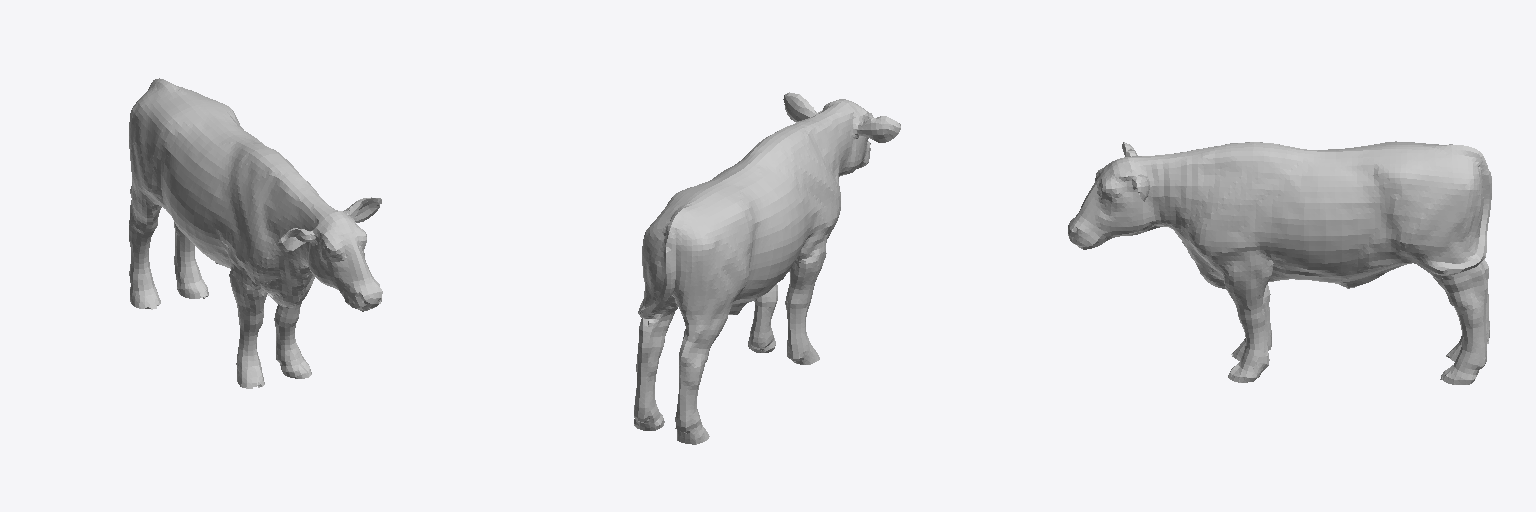
File: cow.obj
3 views of the same model, side by side, from view 1: azimuth 30°, elevation 25°; view 2: azimuth 150°, elevation 25°; view 3: azimuth 270°, elevation 25° (orthographic).
Size of the model in its own units: 0.5168 by 0.9916 by 1.72.